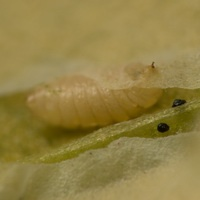insect: (26, 63, 199, 163), (27, 89, 89, 128)
